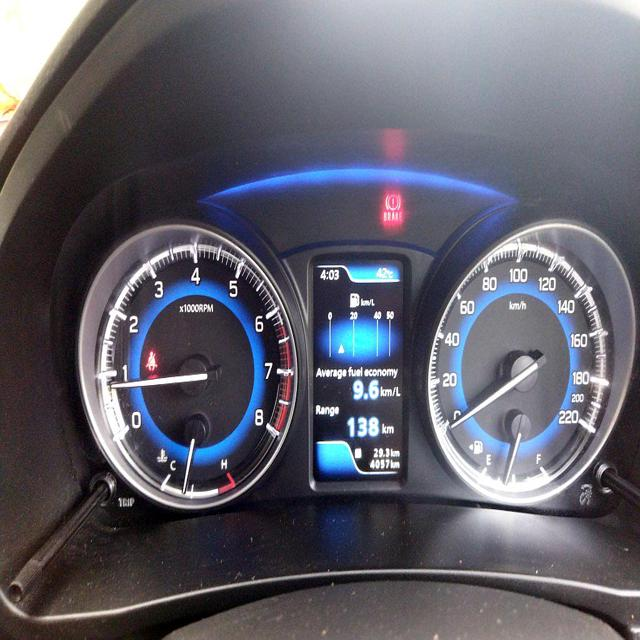odometer: (370, 457, 391, 470)
